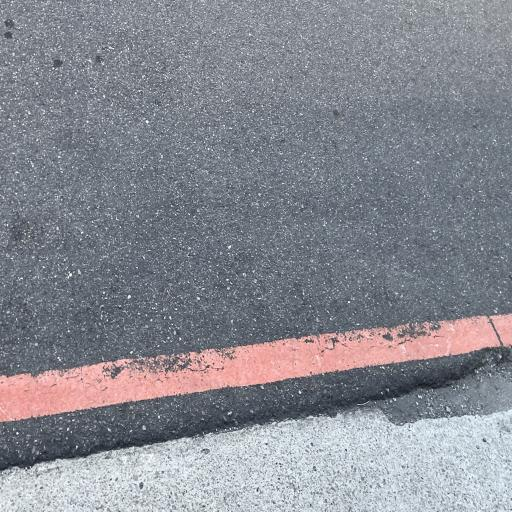redline: (0, 282, 512, 436)
